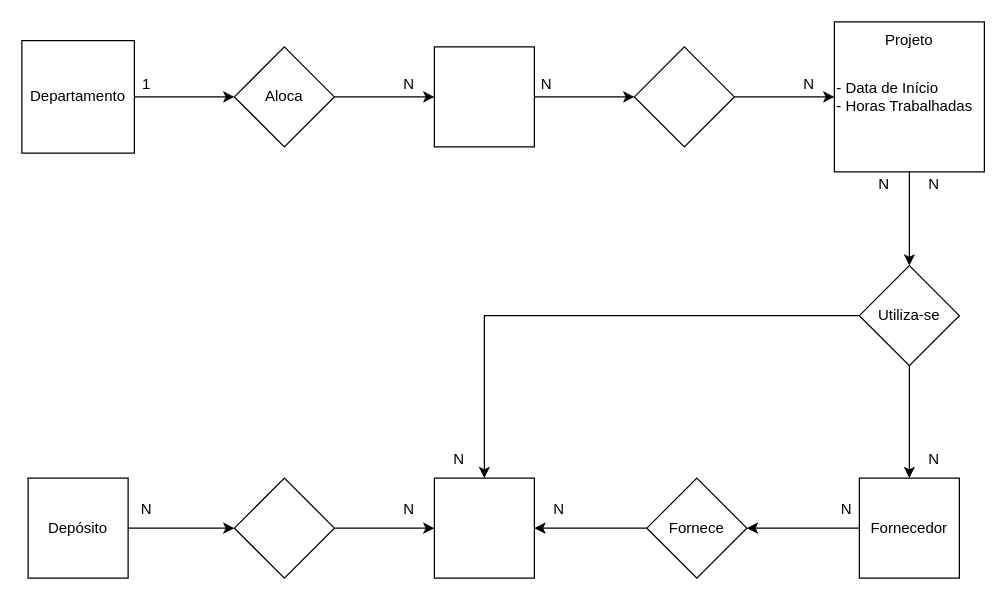
Some shapes in this 1006 by 600 pixel diagram are drawn without their labels. The shapes that lost their labels are listed below. From the top down, each one's centre as x and y in pixels, then its label:
point 483,96: Funcionário
point 683,96: Pertence
point 283,527: Contém
point 483,527: Peça
